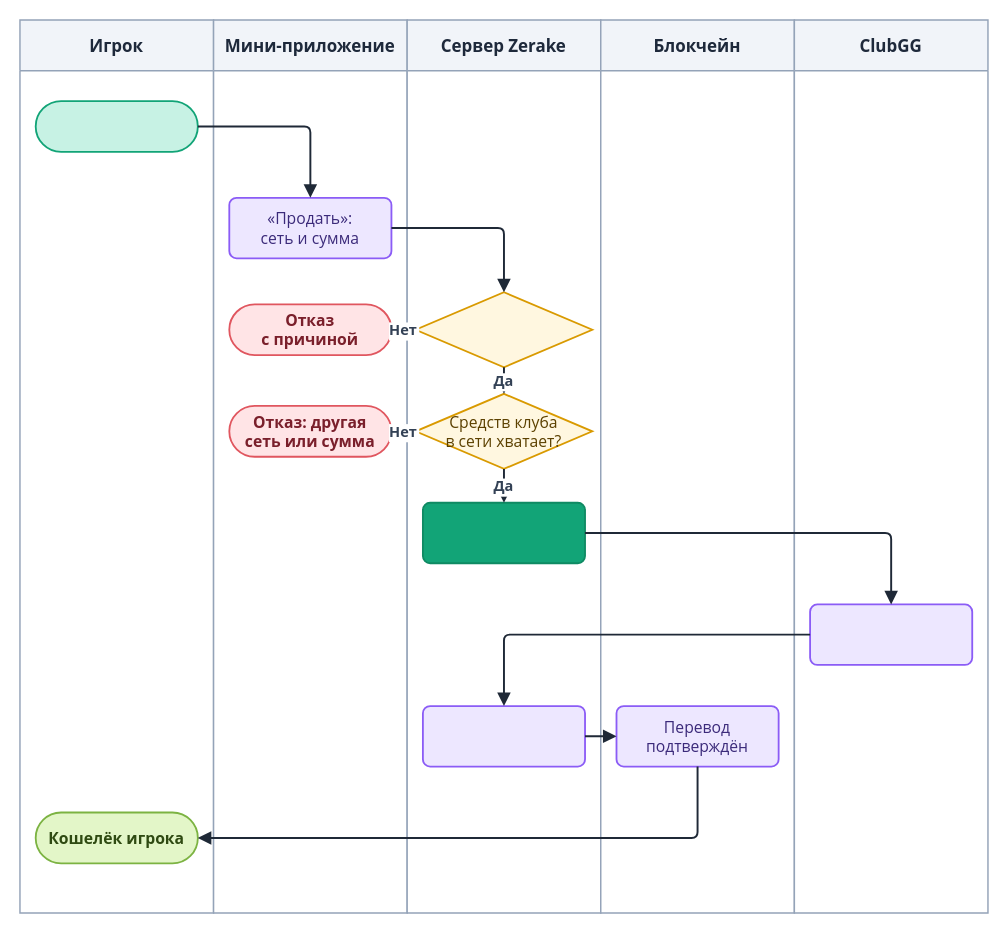
This 1008x933 diagram has some shape labels left out. The centre of each missing label's shape, as x and y in pixels:
"GG ID, кошелёк, лимиты в порядке?" belongs at (x=503, y=329).
"WD-… «В обработке»" belongs at (x=503, y=532).
"Команда снимает фишки с GG ID" belongs at (x=891, y=634).
"Отправляет перевод на кошелёк игрока" belongs at (x=503, y=736).
"Хочет снять фишки" belongs at (x=116, y=126).
